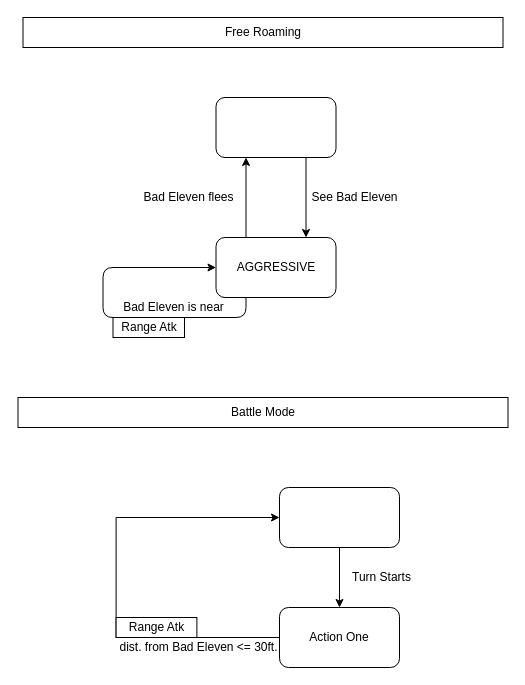
Image size: 525x685. Some labels were removed from this diagram. The centre of each missing label's shape, as x and y in pixels:
"IDLE" belongs at point 275,127.
"Wait Turn" belongs at point 339,517.
